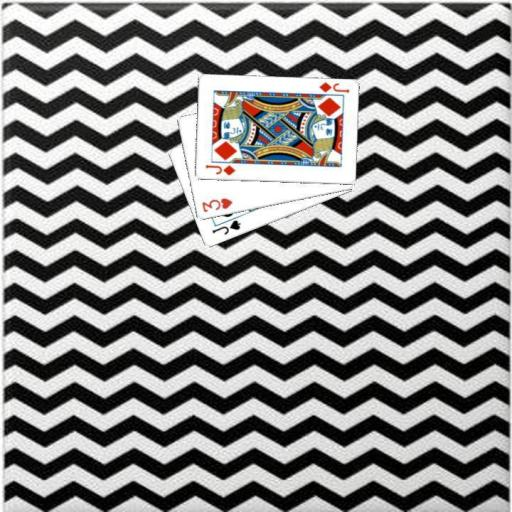card-corner: (198, 195, 234, 214), (209, 217, 242, 237), (202, 161, 236, 177), (316, 79, 350, 95)
